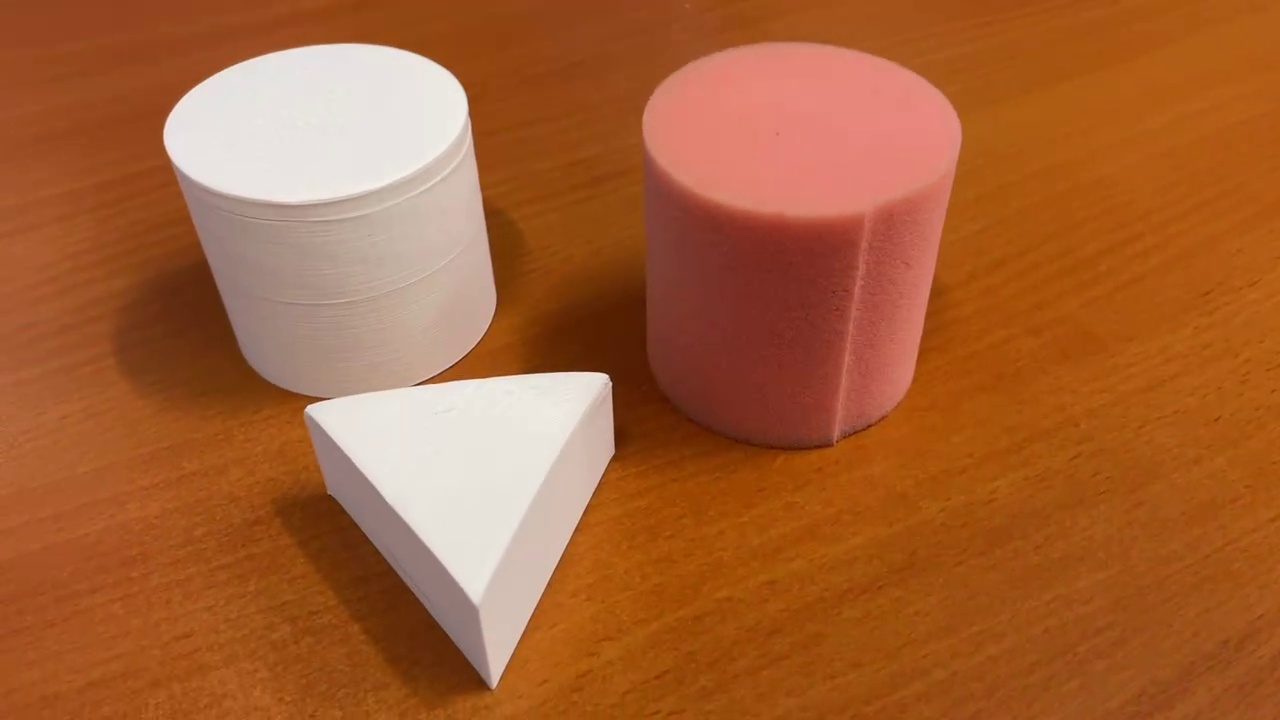Cylinder: (630, 32, 965, 467), (163, 39, 499, 408)
Triangle_short: (296, 364, 625, 694)
